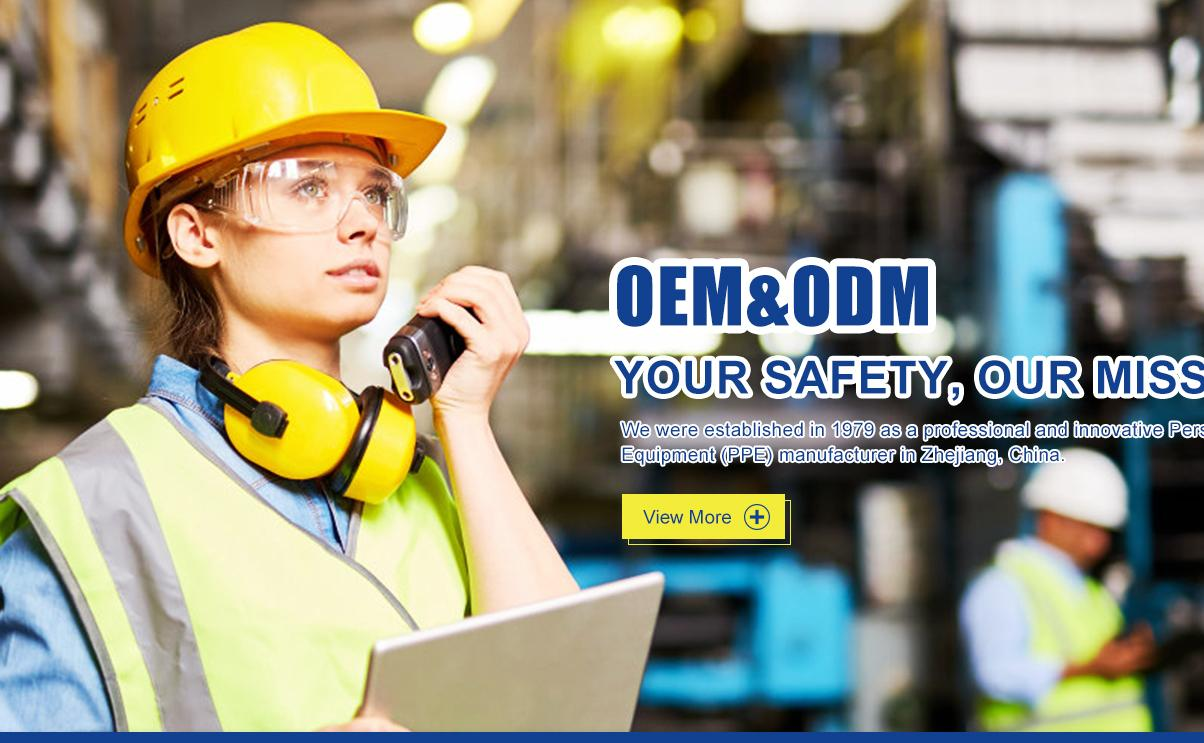helmet: (120, 23, 453, 275)
